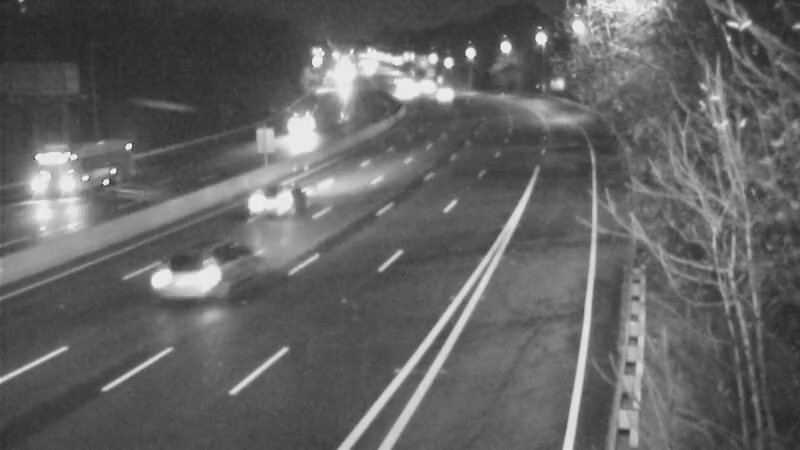vehicle: (237, 159, 317, 239), (154, 238, 234, 318), (29, 132, 109, 212), (421, 68, 471, 118), (280, 98, 330, 148)
